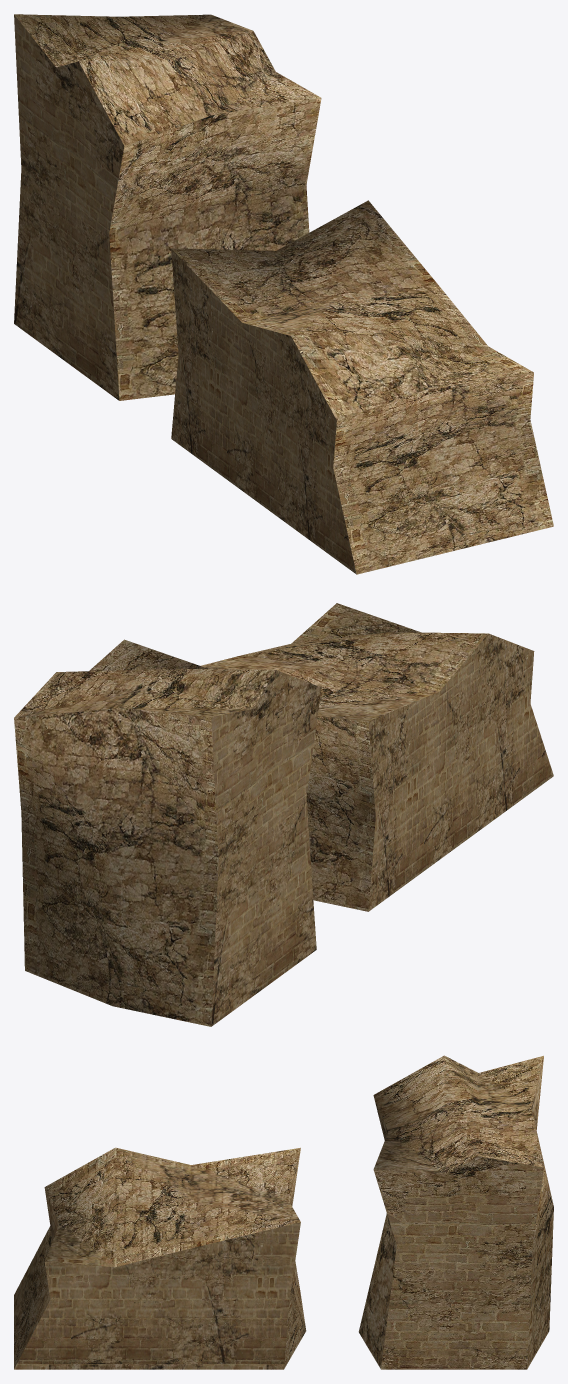
Rendered from w_cd_castle_wall03.glb.
3 renders of one model, top to bottom at view 1: azimuth 30°, elevation 25°; view 2: azimuth 150°, elevation 25°; view 3: azimuth 270°, elevation 25°, orthographic. The views are drawn at different scales.
Visible parts, largest first — view 1: w_cd_castle_wall03 (×2); view 2: w_cd_castle_wall03 (×2); view 3: w_cd_castle_wall03 (×2).
Part boxes in pixels (left/top/right/bottom): w_cd_castle_wall03 (×2): left=14, top=14, right=553, bottom=574; w_cd_castle_wall03 (×2): left=14, top=603, right=553, bottom=1026; w_cd_castle_wall03 (×2): left=14, top=1055, right=553, bottom=1369.
Bounding box in the file's own units: 7.11 × 10.66 × 21.78.
Materials: 2 (2 with a texture image).
